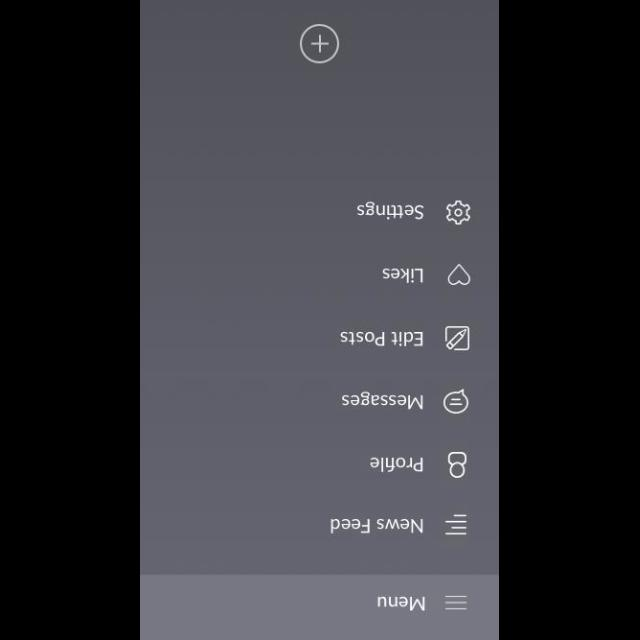icon: (298, 22, 339, 64), (443, 388, 469, 414), (444, 326, 470, 350), (444, 512, 468, 536), (448, 263, 472, 285), (447, 202, 471, 224), (448, 451, 468, 477), (444, 594, 468, 610)
text: (331, 516, 424, 534), (341, 390, 423, 410), (340, 330, 422, 348), (356, 200, 424, 220), (370, 456, 422, 472), (378, 594, 426, 610), (382, 268, 423, 284)
